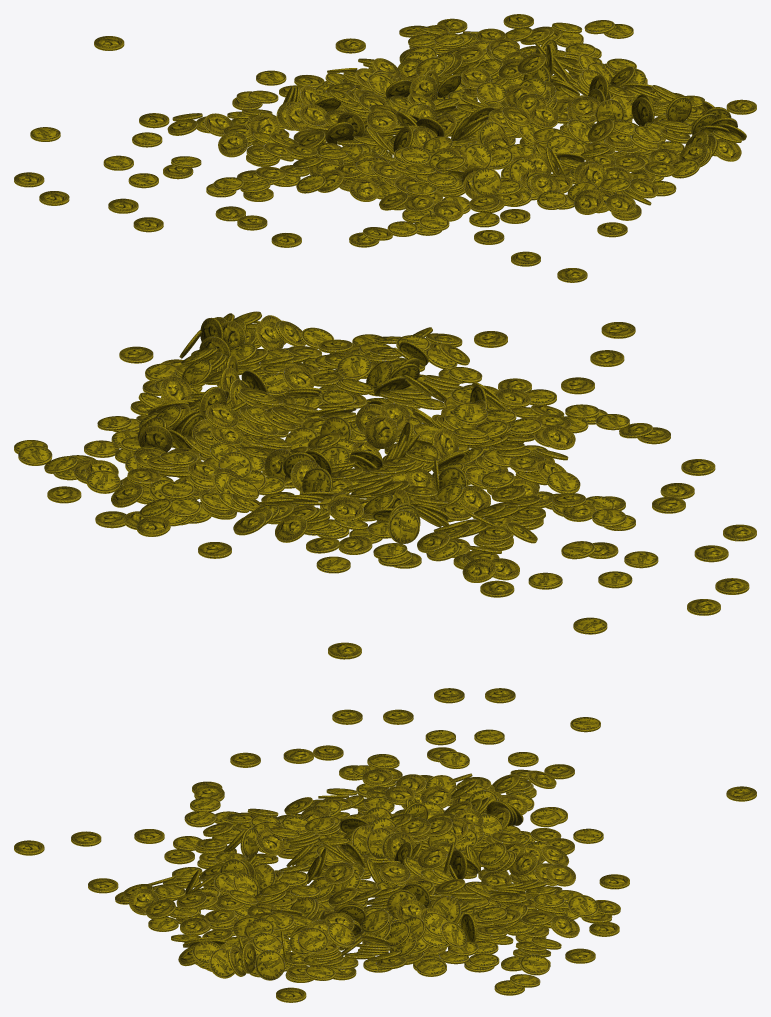
The model's file is dinheiro.glb.
The picture shows the model from 3 angles, top to bottom: view 1: azimuth 30°, elevation 25°; view 2: azimuth 150°, elevation 25°; view 3: azimuth 270°, elevation 25°; orthographic projection. The views are drawn at different scales.
Parts seen in each view (by area): view 1: Coin001_inst162_1_0, Coin001_inst294_1_0, Coin001_inst018_1_0, Coin001_inst089_1_0, Coin001_inst014_1_0, Coin001_inst565_1_0, Coin001_inst034_1_0, Coin001_inst005_1_0, Coin001_inst581_1_0, Coin001_inst016_1_0, Coin001_inst703_1_0, Coin001_inst061_1_0 (+18 smaller); view 2: Coin001_inst086_1_0, Coin001_inst493_1_0, Coin001_inst069_1_0, Coin001_inst434_1_0, Coin001_inst442_1_0, Coin001_inst465_1_0, Coin001_inst143_1_0, Coin001_inst498_1_0, Coin001_inst592_1_0, Coin001_inst417_1_0, Coin001_inst198_1_0, Coin001_inst387_1_0 (+11 smaller); view 3: Coin001_inst043_1_0, Coin001_inst345_1_0, Coin001_inst380_1_0, Coin001_inst212_1_0, Coin001_inst654_1_0, Coin001_inst556_1_0, Coin001_inst045_1_0, Coin001_inst211_1_0, Coin001_inst319_1_0, Coin001_inst537_1_0, Coin001_inst317_1_0, Coin001_inst404_1_0 (+3 smaller).
Boxes of the visible parts, box(x1,y1,x2,y2) form: Coin001_inst162_1_0: box(471, 167, 501, 195); Coin001_inst294_1_0: box(218, 132, 248, 157); Coin001_inst018_1_0: box(574, 189, 603, 214); Coin001_inst089_1_0: box(349, 178, 379, 201); Coin001_inst014_1_0: box(463, 143, 491, 168); Coin001_inst565_1_0: box(367, 110, 397, 132); Coin001_inst034_1_0: box(665, 96, 692, 122); Coin001_inst005_1_0: box(528, 105, 558, 128); Coin001_inst581_1_0: box(476, 81, 506, 103); Coin001_inst016_1_0: box(594, 99, 624, 122); Coin001_inst703_1_0: box(409, 74, 438, 101); Coin001_inst061_1_0: box(631, 97, 654, 126); Coin001_inst086_1_0: box(364, 415, 398, 448); Coin001_inst493_1_0: box(387, 510, 419, 543); Coin001_inst069_1_0: box(337, 354, 371, 379); Coin001_inst434_1_0: box(139, 424, 172, 452); Coin001_inst442_1_0: box(275, 515, 307, 542); Coin001_inst465_1_0: box(462, 558, 496, 582); Coin001_inst143_1_0: box(541, 425, 575, 449); Coin001_inst498_1_0: box(86, 470, 120, 493); Coin001_inst592_1_0: box(205, 403, 238, 429); Coin001_inst417_1_0: box(159, 376, 192, 401); Coin001_inst198_1_0: box(453, 402, 487, 425); Coin001_inst387_1_0: box(302, 467, 332, 498); Coin001_inst043_1_0: box(254, 950, 285, 980); Coin001_inst345_1_0: box(298, 927, 328, 953); Coin001_inst380_1_0: box(568, 895, 598, 917); Coin001_inst212_1_0: box(417, 846, 447, 870); Coin001_inst654_1_0: box(255, 828, 283, 855); Coin001_inst556_1_0: box(379, 862, 410, 884); Coin001_inst045_1_0: box(129, 888, 159, 915); Coin001_inst211_1_0: box(208, 949, 234, 978); Coin001_inst319_1_0: box(327, 922, 355, 947); Coin001_inst537_1_0: box(324, 862, 354, 885); Coin001_inst317_1_0: box(440, 921, 466, 948); Coin001_inst404_1_0: box(546, 864, 575, 886).
Bounding box in the file's own units: 0.7255 × 0.0548 × 0.7292.
1 material, 1 textured.
